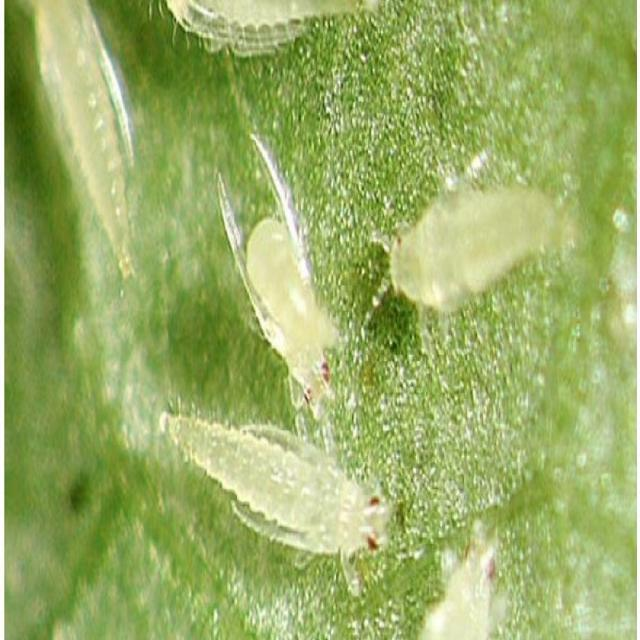Thrip-Larva-: (140, 380, 408, 579)
